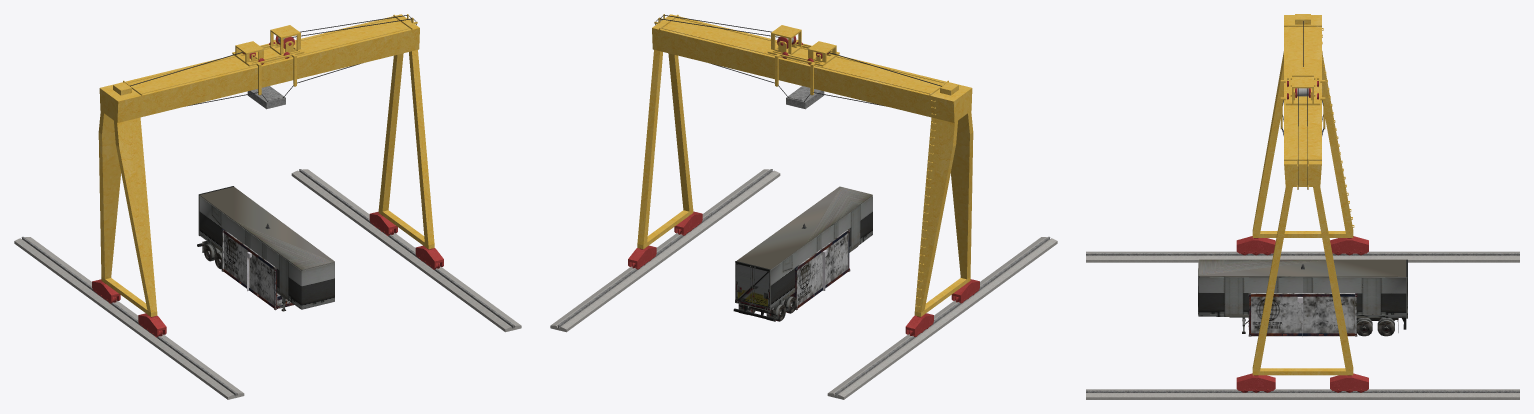
Rendered from map_props.glb.
3 renders of one model, left to right at view 1: azimuth 30°, elevation 25°; view 2: azimuth 150°, elevation 25°; view 3: azimuth 270°, elevation 25°, orthographic.
Visible parts, largest first — view 1: Crane, Trailer, Container1, ContainerRust; view 2: Crane, Trailer, Container1, ContainerRust; view 3: Crane, Trailer, Container1, ContainerRust.
Part boxes in pixels (x1,y1,x2,y2): Crane: (14,14,521,399); Trailer: (197,186,334,311); Container1: (221,229,293,310); ContainerRust: (221,229,293,309); Crane: (550,14,1057,399); Trailer: (733,186,872,321); Container1: (795,229,850,310); ContainerRust: (790,230,849,309); Crane: (1086,14,1519,399); Trailer: (1198,259,1407,336); Container1: (1248,293,1357,336); ContainerRust: (1248,293,1357,336).
Size of the model in its own units: 19.85 by 15.88 by 24.
Materials: 24 (21 with a texture image).
